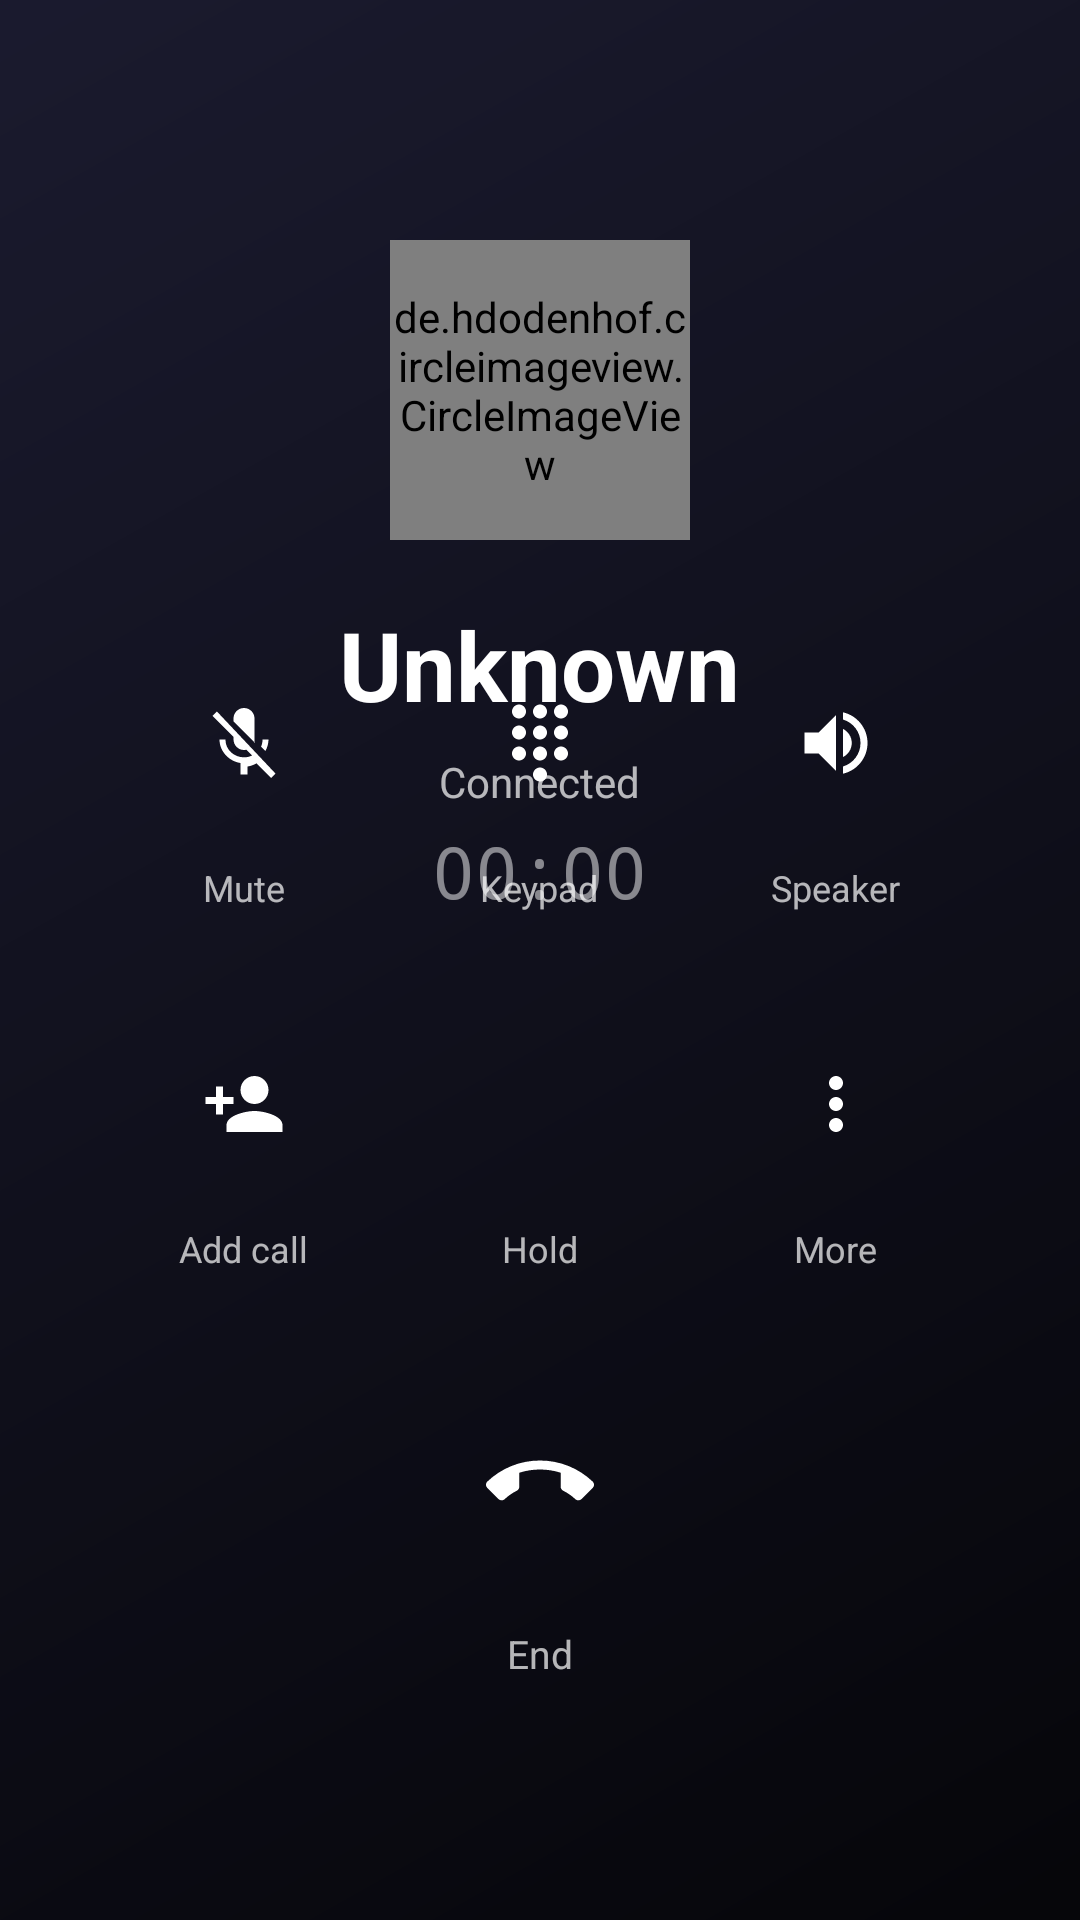

Named icons in this screenshot (1080px×1920px) and their centers, (x,y):
End call: (540,1480)
